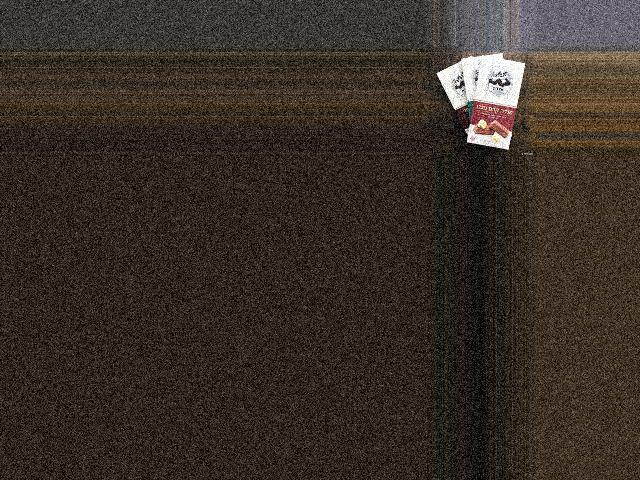chocolate: (435, 53, 495, 149)
